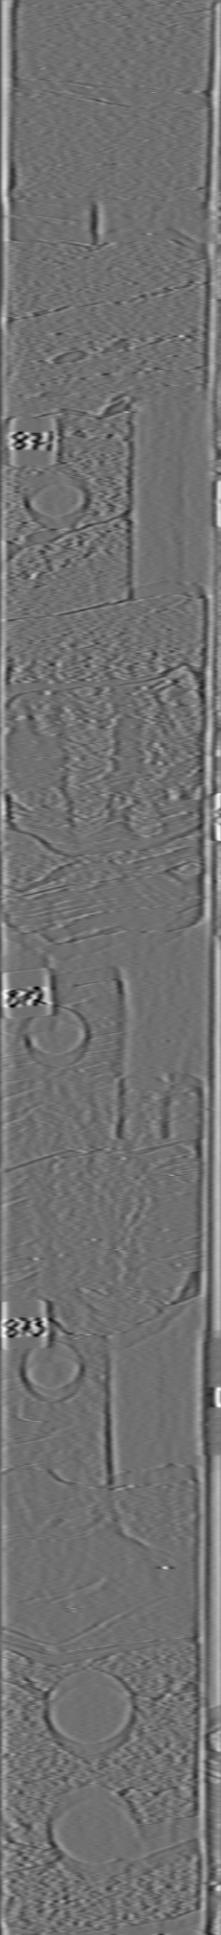hplug: (17, 462, 99, 536), (21, 1000, 95, 1074), (17, 1334, 86, 1408)
scal: (41, 1780, 143, 1882), (41, 1664, 137, 1766)
vplug: (117, 383, 205, 602), (93, 1314, 179, 1501), (107, 922, 179, 1138)
